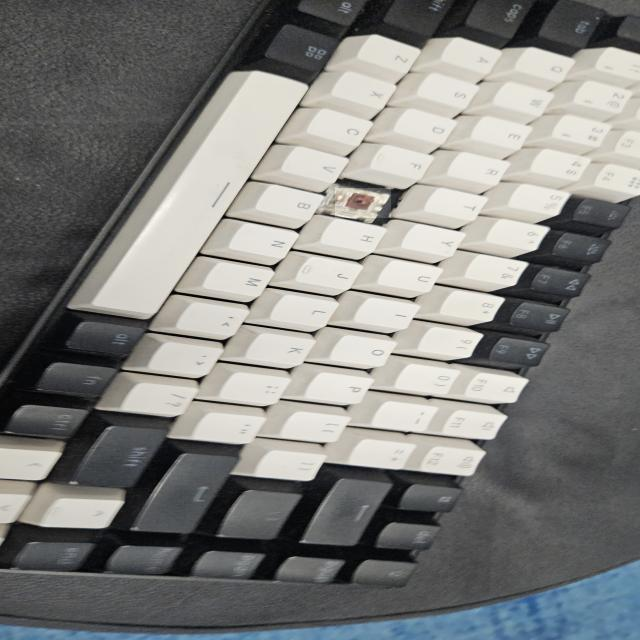C: (335, 188, 391, 218)
